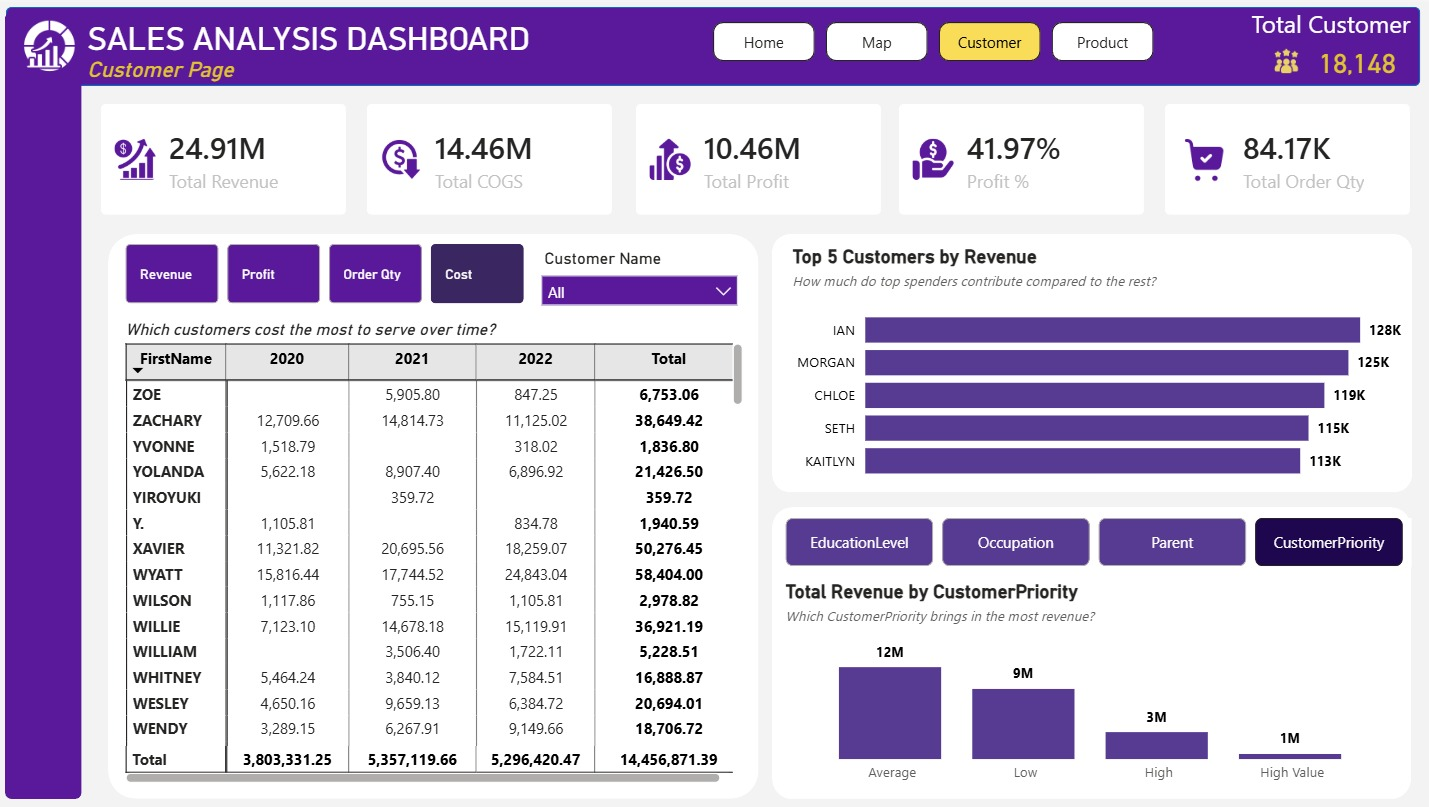

Layout of this report page (visuals, bound fields, positions):
{"tool":"powerbi","page":{"name":"Customer","canvas":[1280,720],"ordinal":2},"visuals":[{"type":"textbox","box":[1115.7,0,155.2,45.4],"z":0,"group":"g1"},{"type":"shape","box":[6,4,1264.9,70.6],"z":0},{"type":"shape","box":[5.8,9.3,68.5,703.9],"z":1000},{"type":"card","fields":{"Values":["All Calculation.No of Customer"]},"box":[1167.1,36.3,96.8,34.3],"z":1000,"group":"g1"},{"type":"image","box":[16.1,15.1,58.5,48.4],"z":2000},{"type":"image","box":[1135.9,40.3,31.2,25.2],"z":2000,"group":"g1"},{"type":"textbox","box":[74.6,11.1,556.3,84.7],"z":3000},{"type":"group","id":"g1","title":"Group 1","box":[1115.7,0,155.2,70.6],"z":4000},{"type":"cardVisual","fields":{"Data":["All Calculation.Total Revenue"]},"box":[74.6,74.6,254,133],"z":5000},{"type":"cardVisual","fields":{"Data":["All Calculation.Total COGS"]},"box":[312.4,74.6,254,133],"z":6000},{"type":"cardVisual","fields":{"Data":["All Calculation.Total Profit"]},"box":[552.3,74.6,254,133],"z":7000},{"type":"cardVisual","fields":{"Data":["All Calculation.Profit %"]},"box":[788.2,74.6,254,133],"z":8000},{"type":"cardVisual","fields":{"Data":["All Calculation.Total Order Qty"]},"box":[1026,74.6,254,133],"z":9000},{"type":"shape","box":[97.6,207.9,581.9,505.3],"z":10000},{"type":"pivotTable","fields":{"Columns":["Calendar.Date Hierarchy.Year","Calendar.Date Hierarchy.Month Name"],"Rows":["Customer Lookup.FirstName"],"Values":["All Calculation.Total COGS"]},"box":[108,284.6,562.2,419.3],"z":11000},{"type":"advancedSlicerVisual","fields":{"Values":["KPI Parameter.KPI Parameter"]},"box":[108.4,216.9,366.4,58.6],"z":12000},{"type":"slicer","fields":{"Values":["Customer Lookup.FirstName"]},"box":[474.9,216.9,195.7,58.6],"z":13000},{"type":"pageNavigator","box":[639,18.1,394.6,35.5],"z":14000},{"type":"shape","box":[691.1,207.9,572.6,231.1],"z":15000},{"type":"shape","box":[691.7,451.6,571.7,261.5],"z":16000},{"type":"clusteredBarChart","title":"Top 5 Customers by Revenue","fields":{"Category":["Customer Lookup.FirstName"],"Y":["All Calculation.Total Revenue"]},"box":[705,217.2,558.7,221.9],"z":17000},{"type":"advancedSlicerVisual","fields":{"Values":["Customer Parameter.Customer Parameter"]},"box":[698.8,461.1,564.5,44],"z":18000},{"type":"clusteredColumnChart","fields":{"Category":["Customer Lookup.Customer Priority"],"Y":["All Calculation.Total Revenue"]},"box":[698.8,517,558.6,190.2],"z":19000}]}

Visuals, with their boxes in screenshot pixels (x1, y1, x2, y2), scaled from the page's 1280x720 canvas onto the 1429x807 screenshot:
textbox: [x1=1246, y1=0, x2=1419, y2=51]
shape: [x1=7, y1=4, x2=1419, y2=84]
shape: [x1=6, y1=10, x2=83, y2=799]
card - All Calculation.No of Customer: [x1=1303, y1=41, x2=1411, y2=79]
image: [x1=18, y1=17, x2=83, y2=71]
image: [x1=1268, y1=45, x2=1303, y2=73]
textbox: [x1=83, y1=12, x2=704, y2=107]
"Group 1" group: [x1=1246, y1=0, x2=1419, y2=79]
cardVisual - All Calculation.Total Revenue: [x1=83, y1=84, x2=367, y2=233]
cardVisual - All Calculation.Total COGS: [x1=349, y1=84, x2=632, y2=233]
cardVisual - All Calculation.Total Profit: [x1=617, y1=84, x2=900, y2=233]
cardVisual - All Calculation.Profit %: [x1=880, y1=84, x2=1164, y2=233]
cardVisual - All Calculation.Total Order Qty: [x1=1145, y1=84, x2=1428, y2=233]
shape: [x1=109, y1=233, x2=759, y2=799]
pivotTable - Calendar.Date Hierarchy.Year x Calendar.Date Hierarchy.Month Name: [x1=121, y1=319, x2=748, y2=789]
advancedSlicerVisual - KPI Parameter.KPI Parameter: [x1=121, y1=243, x2=530, y2=309]
slicer - Customer Lookup.FirstName: [x1=530, y1=243, x2=749, y2=309]
pageNavigator: [x1=713, y1=20, x2=1154, y2=60]
shape: [x1=772, y1=233, x2=1411, y2=492]
shape: [x1=772, y1=506, x2=1410, y2=799]
"Top 5 Customers by Revenue" clusteredBarChart: [x1=787, y1=243, x2=1411, y2=492]
advancedSlicerVisual - Customer Parameter.Customer Parameter: [x1=780, y1=517, x2=1410, y2=566]
clusteredColumnChart - Customer Lookup.Customer Priority x All Calculation.Total Revenue: [x1=780, y1=579, x2=1404, y2=793]
